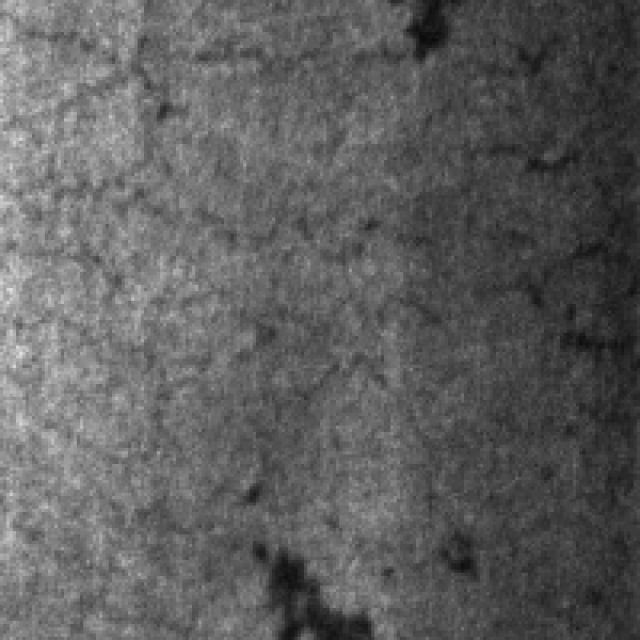crazing: (9, 10, 348, 432), (435, 131, 634, 368), (451, 29, 627, 176)
patches: (246, 538, 374, 636)
